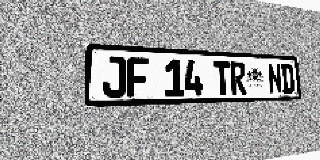1: (164, 59, 184, 96)
4: (184, 59, 203, 96)
D: (280, 64, 295, 94)
F: (126, 57, 149, 97)
J: (102, 56, 126, 98)
N: (267, 63, 282, 94)
R: (230, 61, 247, 95)
T: (213, 61, 231, 95)
